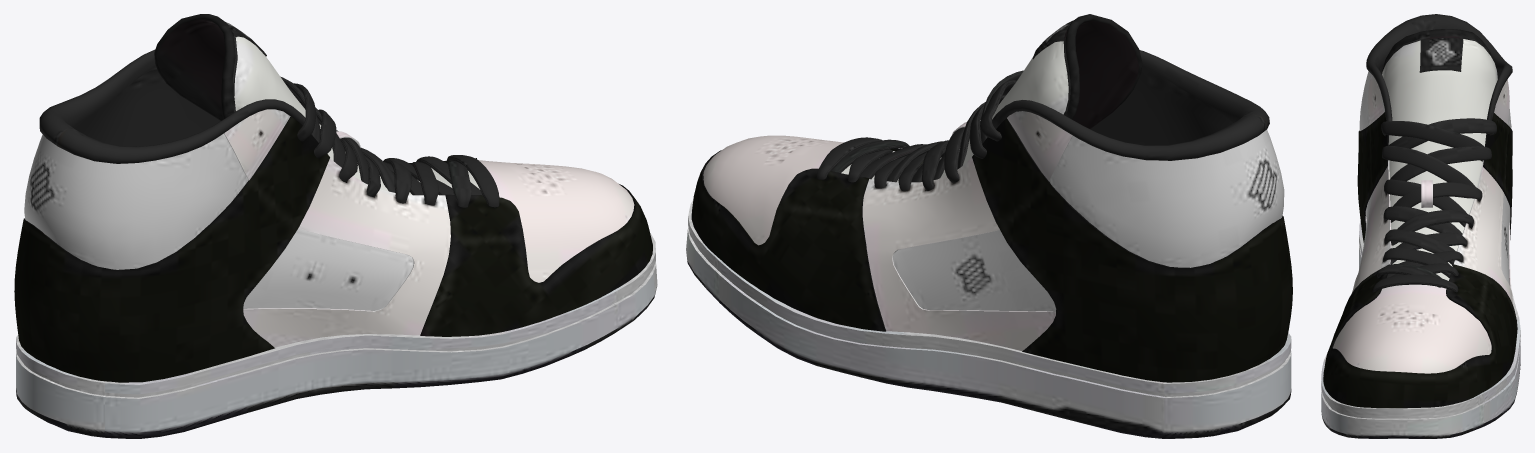
The model's file is shoe.glb.
The picture shows the model from 3 angles, left to right: view 1: azimuth 30°, elevation 25°; view 2: azimuth 150°, elevation 25°; view 3: azimuth 270°, elevation 25°; orthographic projection. The views are drawn at different scales.
Visible parts, largest first — view 1: Object_3; view 2: Object_3; view 3: Object_3.
Part boxes in pixels (x1,y1,x2,y2): Object_3: (14,14,657,438); Object_3: (686,14,1292,438); Object_3: (1321,14,1520,438).
Bounding box in the file's own units: 8.15 × 4.72 × 2.98.
Materials: 1 (1 with a texture image).
